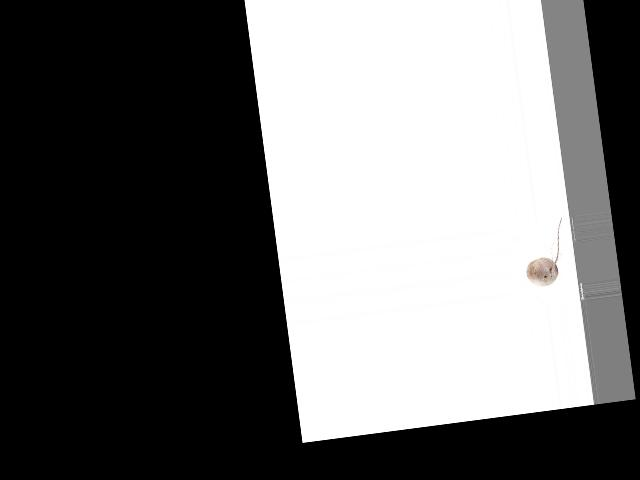beet: (520, 217, 570, 287)
